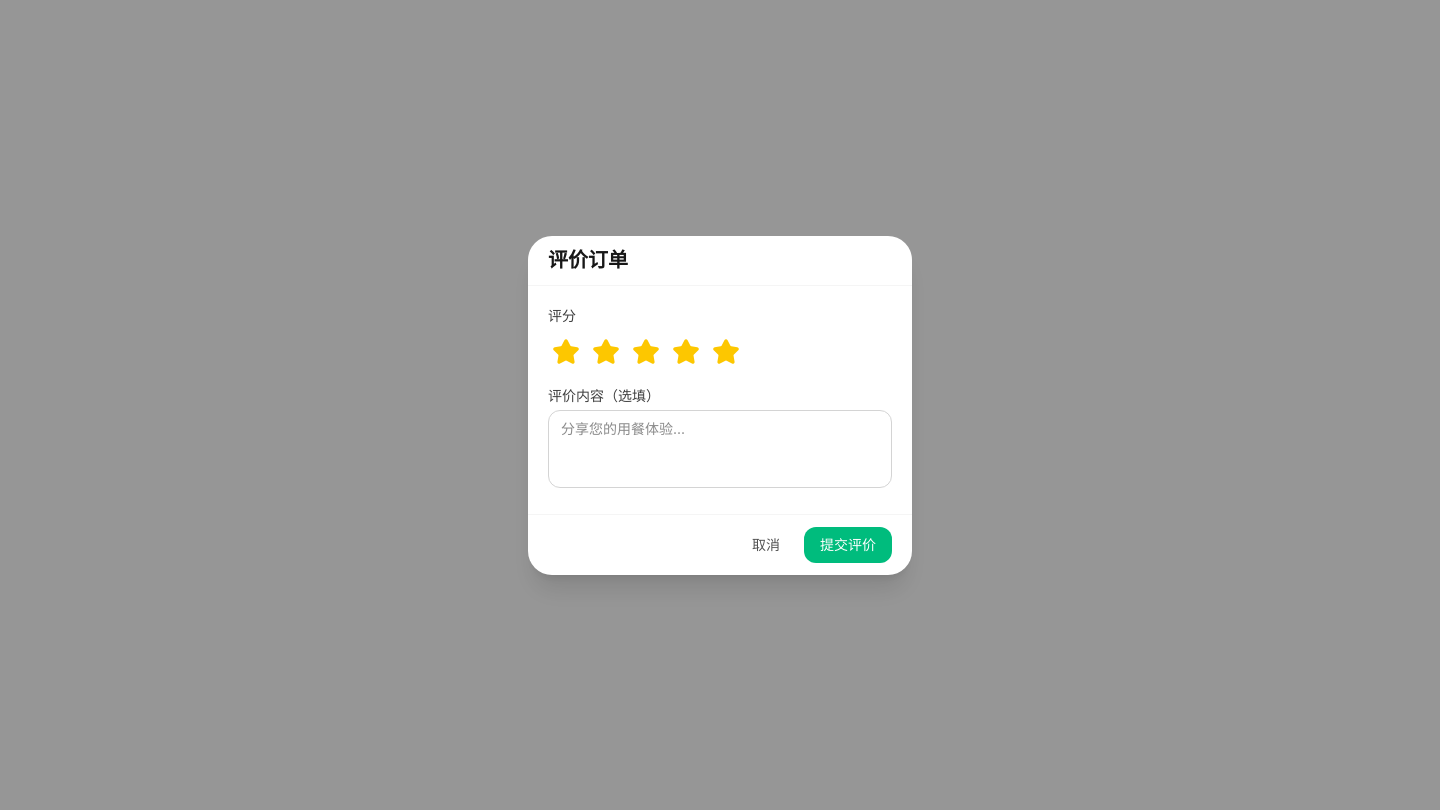
Test: ReviewSubmitModal 评价提交弹窗 › 提交失败（ApiError）显示错误信息
Click the button "提交评价": [848, 544] box [804,526,892,562]
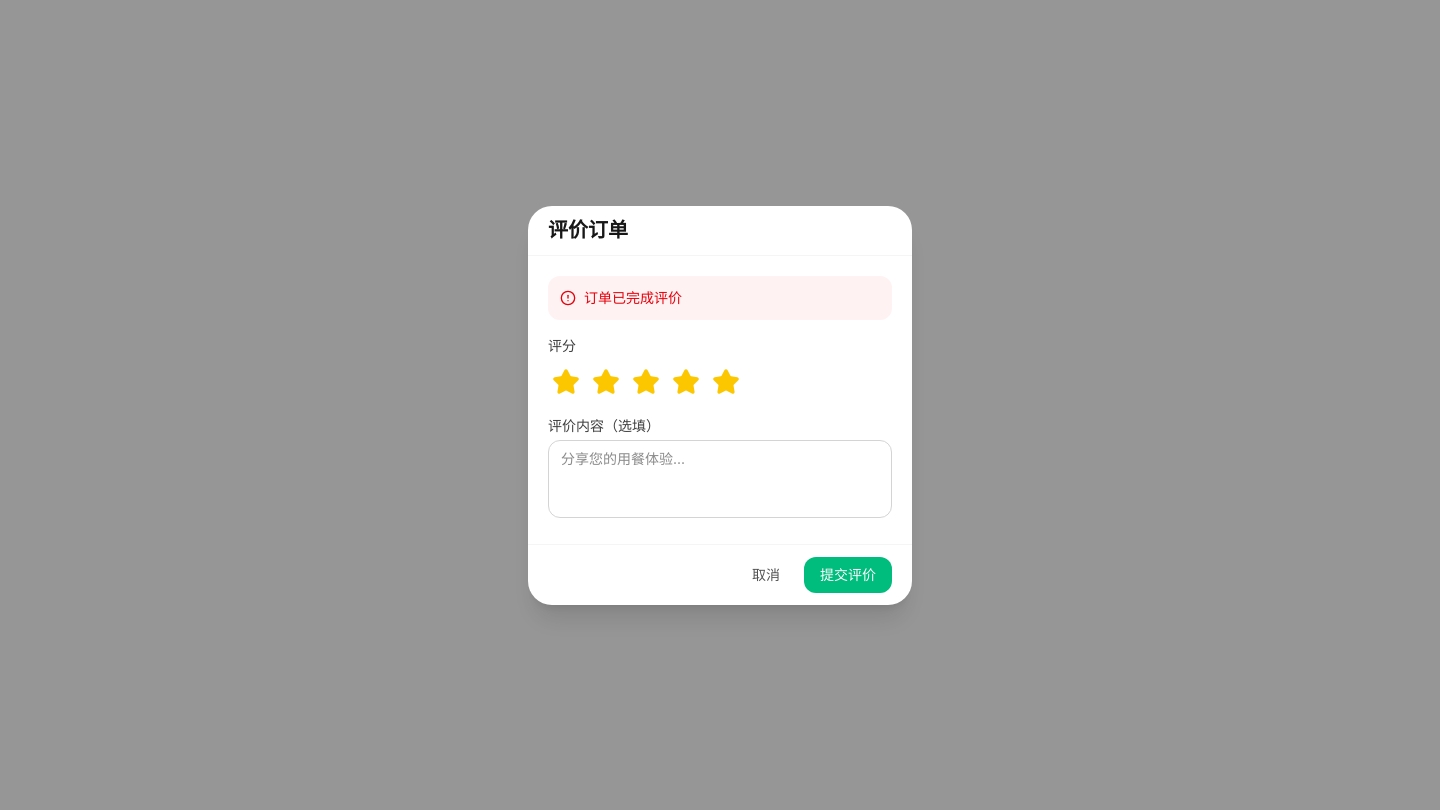
Check: the text "订单已完成评价" is shown, box [548,276,892,320]
